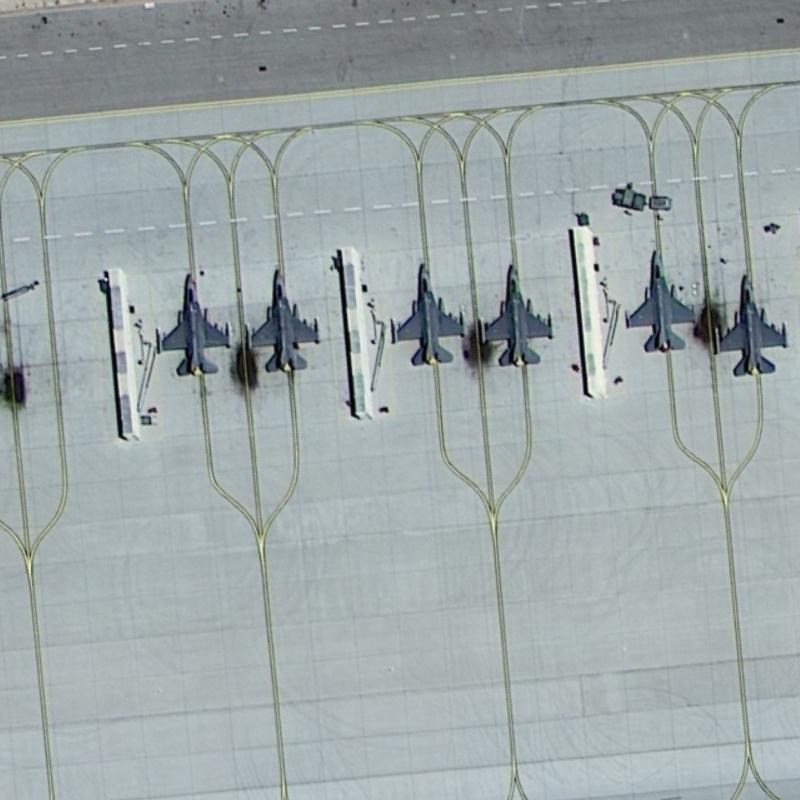A5: (239, 262, 333, 377), (385, 249, 470, 371), (148, 267, 237, 383), (473, 256, 559, 376), (706, 265, 792, 381), (618, 239, 698, 362)
